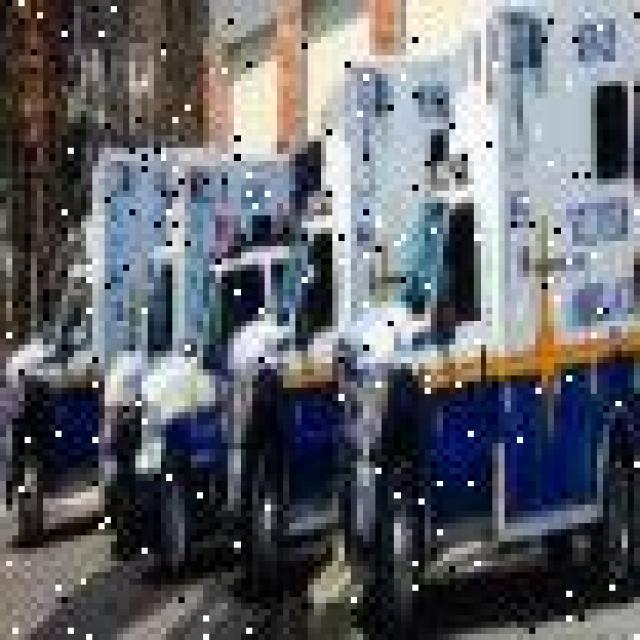emergency-vehicle: (354, 0, 637, 628), (225, 61, 452, 597), (6, 145, 228, 544), (102, 154, 298, 554)
